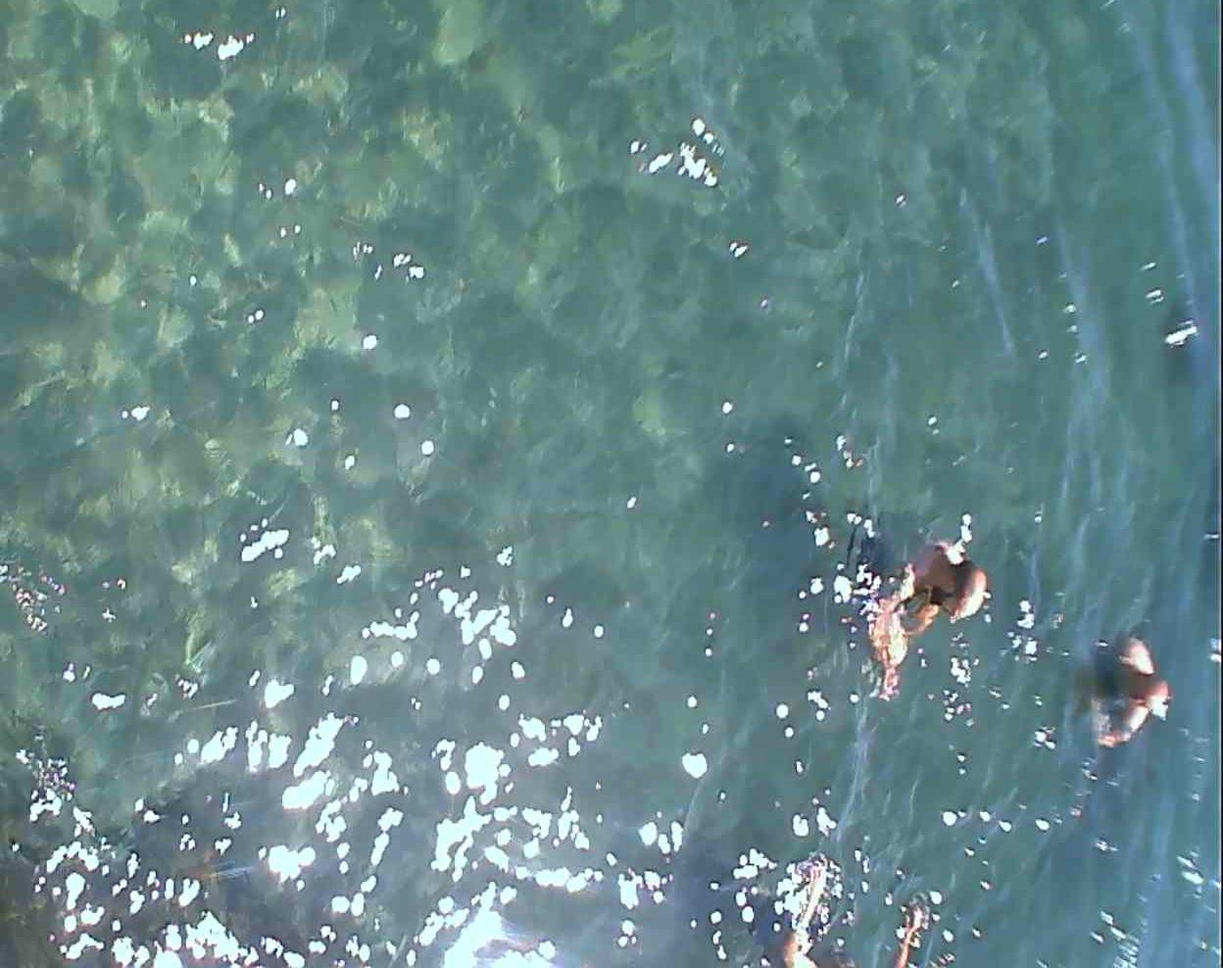human: (859, 516, 976, 710), (1088, 613, 1173, 757)
